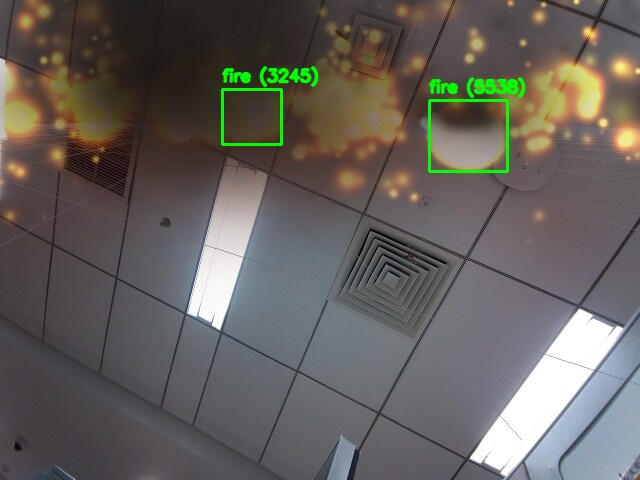fire: (429, 100, 507, 171), (222, 89, 281, 144)
